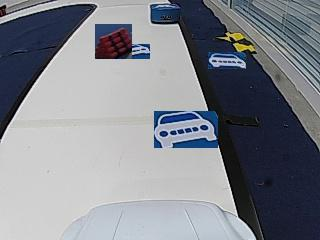prop: (151, 4, 180, 24)
